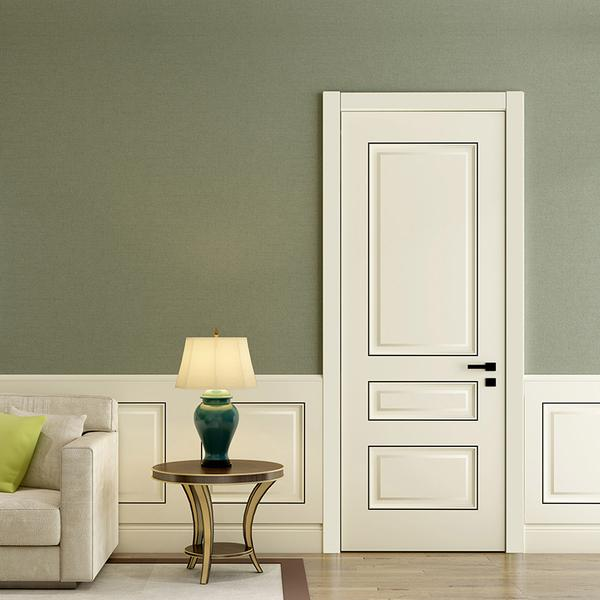door: (336, 102, 505, 552)
